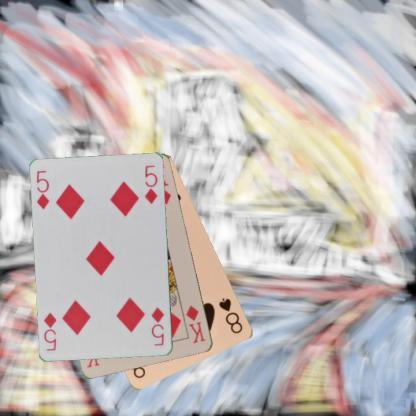5d: (34, 168, 51, 211), (149, 305, 165, 347)
8s: (216, 295, 245, 335)
Kd: (183, 303, 207, 345)
